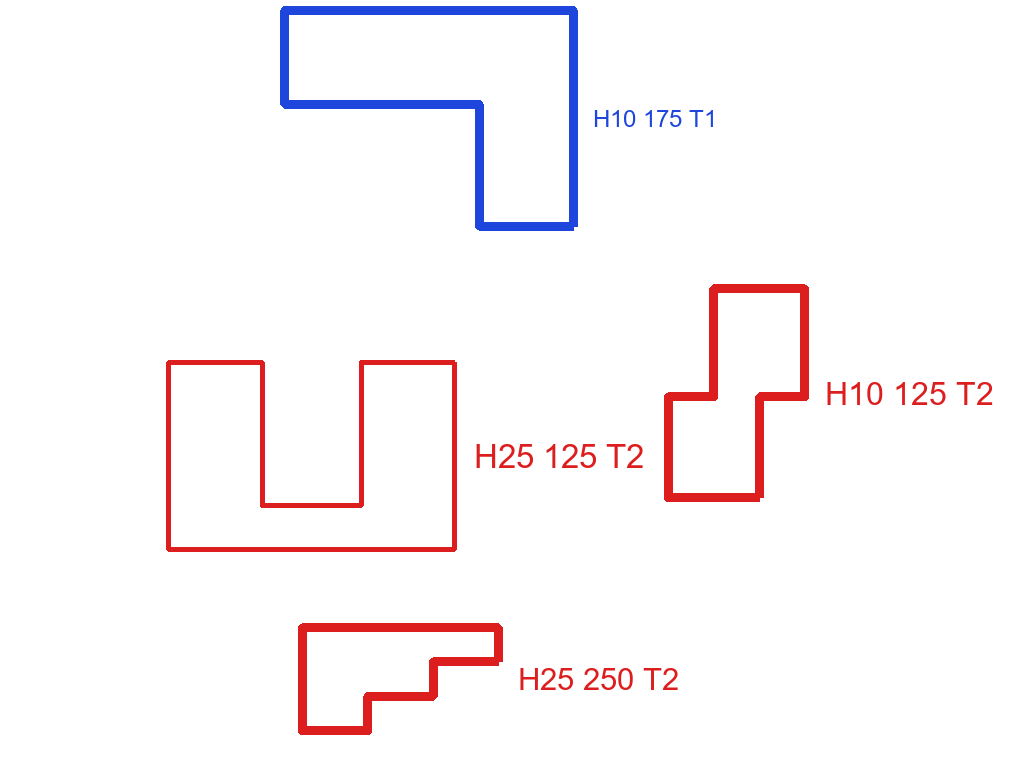shape: (278, 4, 580, 233), (164, 358, 459, 554), (662, 282, 811, 504), (296, 621, 505, 737)
text: (472, 442, 646, 470), (823, 380, 996, 407), (516, 666, 681, 692), (591, 108, 719, 129)
